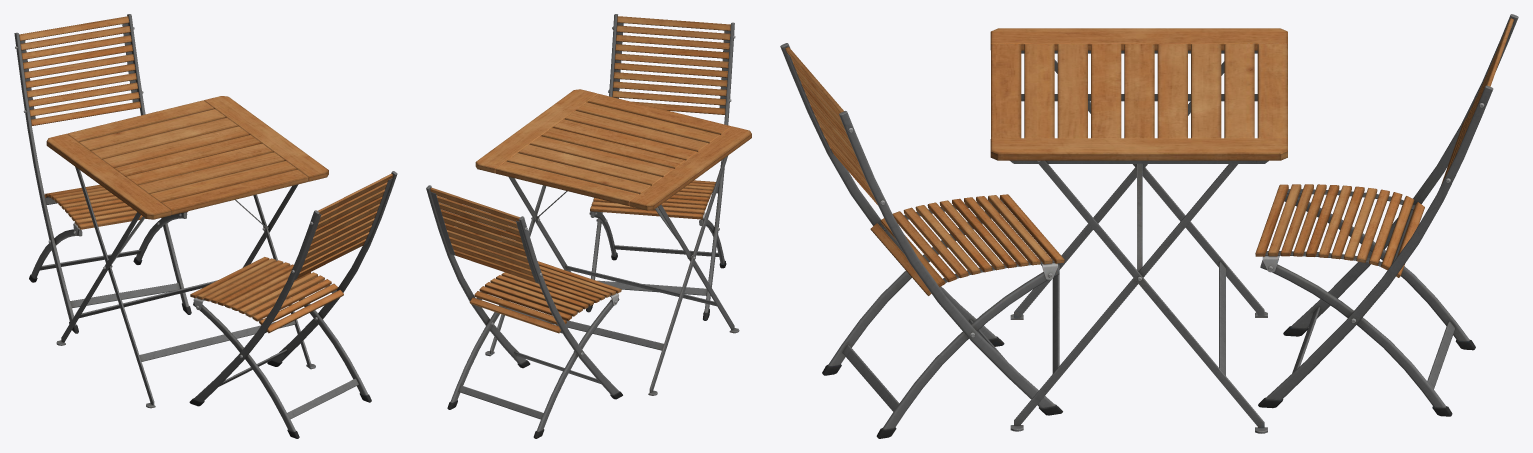
Rendered from outdoor_table_chair_set_01_1k.gltf.
3 views of the same model, side by side, from view 1: azimuth 30°, elevation 25°; view 2: azimuth 150°, elevation 25°; view 3: azimuth 270°, elevation 25° (orthographic). The views are drawn at different scales.
Visible parts, largest first — view 1: outdoor_table_chair_set_01_table, outdoor_table_chair_set_01_chair_02, outdoor_table_chair_set_01_chair_01; view 2: outdoor_table_chair_set_01_table, outdoor_table_chair_set_01_chair_02, outdoor_table_chair_set_01_chair_01; view 3: outdoor_table_chair_set_01_table, outdoor_table_chair_set_01_chair_01, outdoor_table_chair_set_01_chair_02.
Boxes of the visible parts, box(x1,y1,x2,y2) form: outdoor_table_chair_set_01_table: box(46, 96, 328, 408); outdoor_table_chair_set_01_chair_02: box(14, 14, 191, 333); outdoor_table_chair_set_01_chair_01: box(189, 171, 397, 438); outdoor_table_chair_set_01_table: box(475, 89, 751, 395); outdoor_table_chair_set_01_chair_02: box(426, 185, 622, 438); outdoor_table_chair_set_01_chair_01: box(586, 14, 735, 320); outdoor_table_chair_set_01_table: box(990, 28, 1287, 433); outdoor_table_chair_set_01_chair_01: box(780, 43, 1064, 438); outdoor_table_chair_set_01_chair_02: box(1255, 14, 1518, 416).
Size of the model in its own units: 0.7417 by 0.8586 by 1.72.
Materials: 2 (2 with a texture image).
